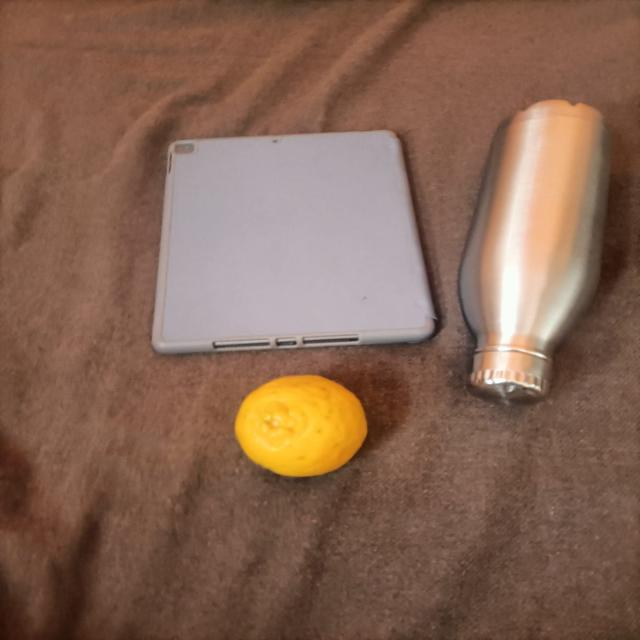bottle: (456, 100, 634, 419)
orange: (214, 371, 385, 490)
tablet: (147, 105, 448, 369)
